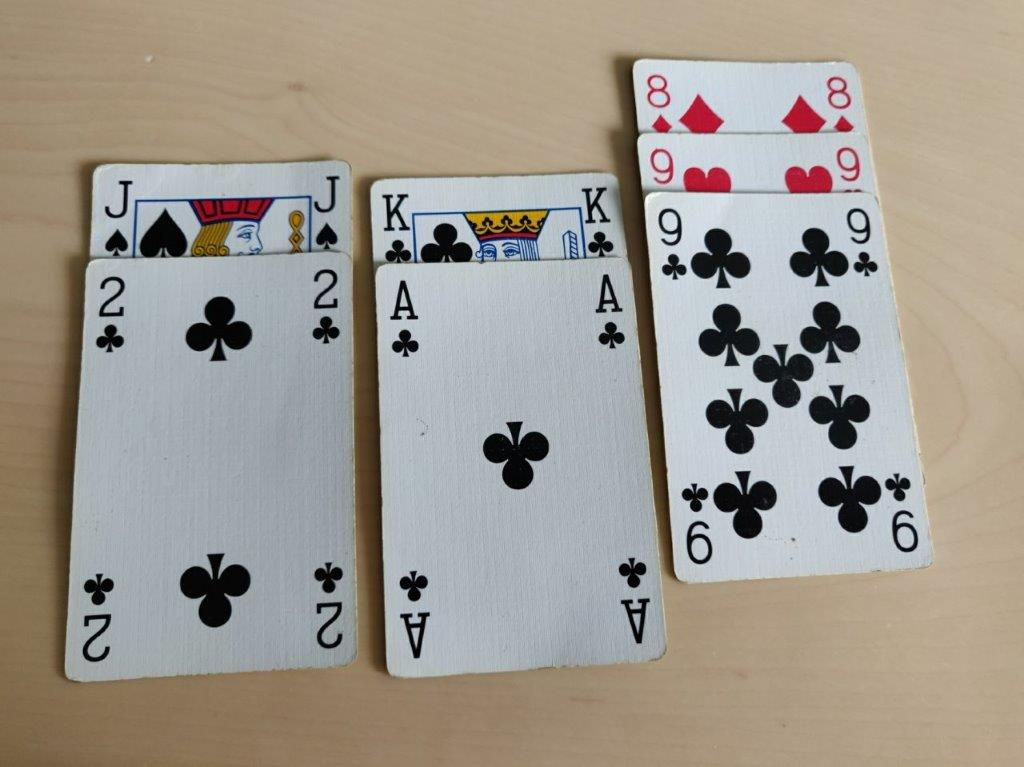2C: (91, 270, 134, 361), (308, 266, 351, 357)
8D: (638, 66, 681, 140), (822, 69, 859, 137)
9C: (652, 197, 691, 288), (844, 202, 883, 285)
9H: (833, 142, 871, 193)
AC: (382, 277, 426, 362), (584, 268, 628, 353)
JS: (92, 169, 138, 260), (303, 167, 349, 258)
KC: (377, 183, 416, 264), (579, 180, 618, 261)
